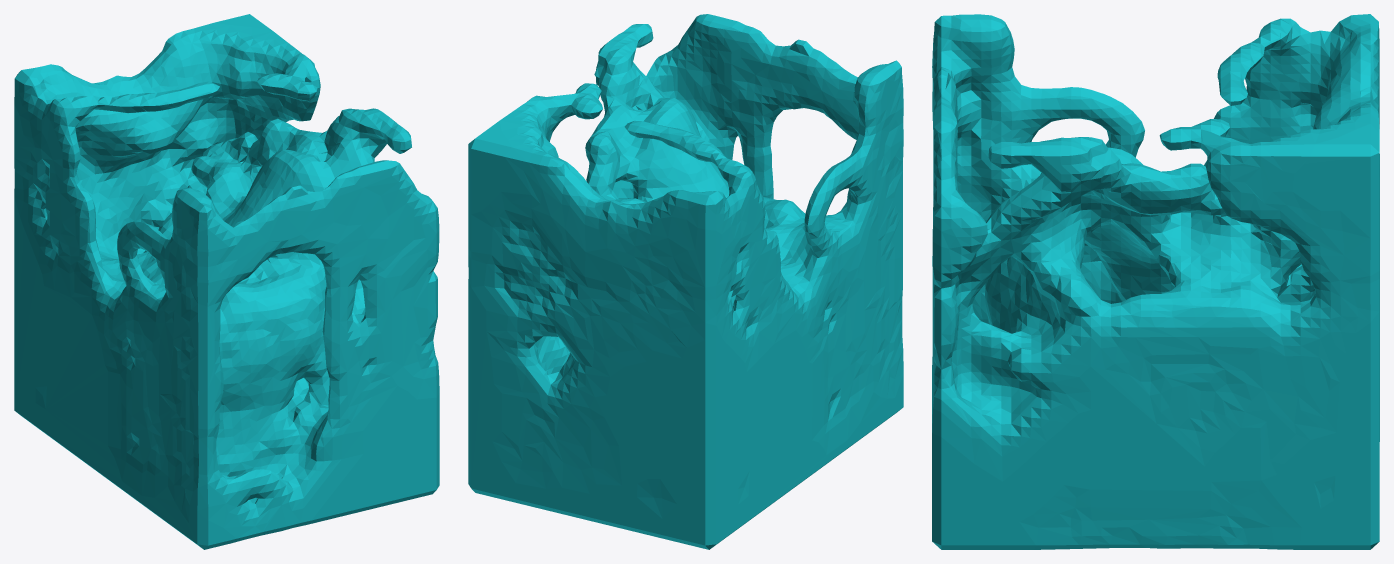
The picture shows the model from 3 angles, left to right: view 1: azimuth 30°, elevation 25°; view 2: azimuth 150°, elevation 25°; view 3: azimuth 270°, elevation 25°; orthographic projection. The views are drawn at different scales.
Parts seen in each view (by area): view 1: Liquid_Domain; view 2: Liquid_Domain; view 3: Liquid_Domain.
Boxes of the visible parts, x1,y1,x2,y2 form: Liquid_Domain: (14,14,439,549); Liquid_Domain: (468,14,903,549); Liquid_Domain: (932,14,1379,549).
Size of the model in its own units: 79.1 by 108 by 108.
